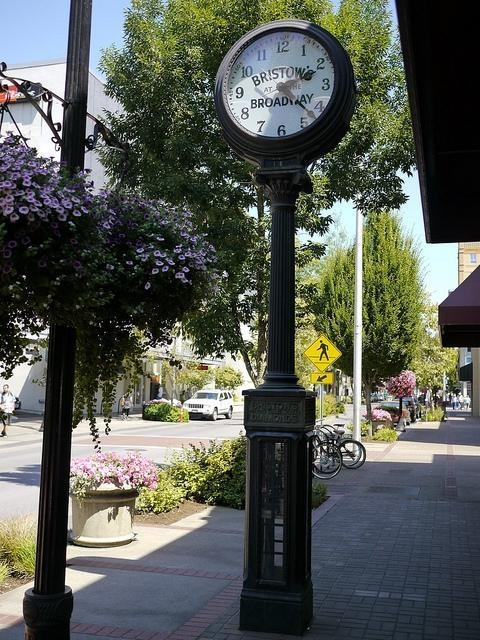bicycle: (313, 429, 368, 469), (311, 435, 343, 478), (321, 424, 345, 429)
car: (183, 389, 234, 420), (377, 400, 412, 427), (402, 397, 422, 422)
